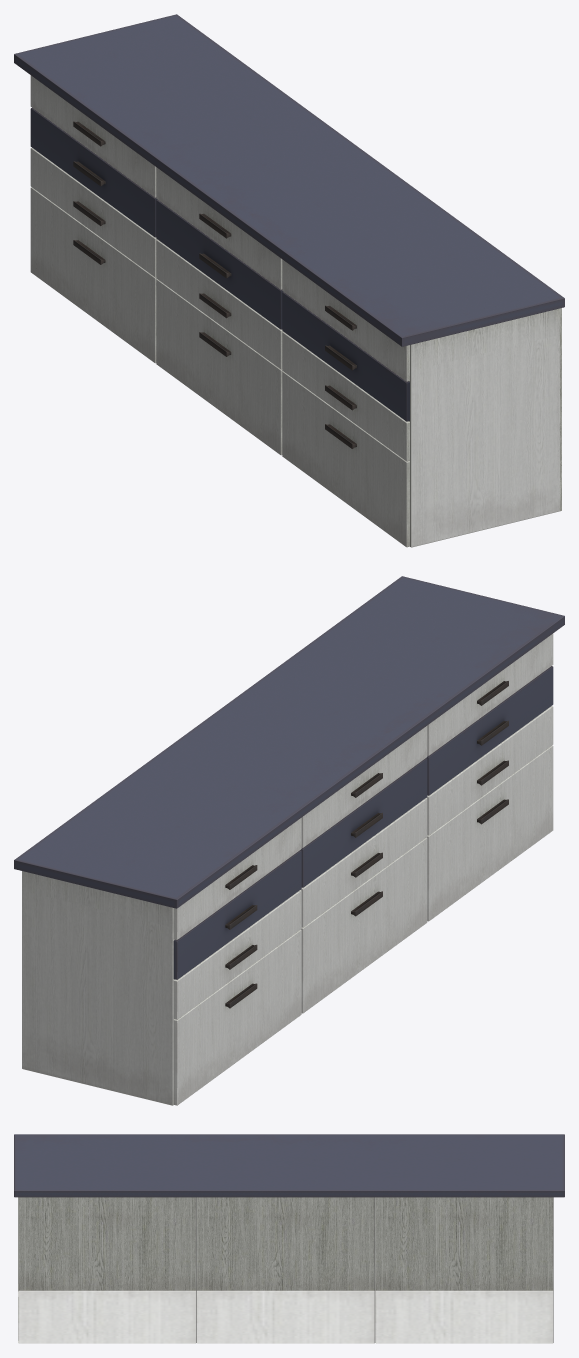
Rendered from CoffeDesk.fbx.
3 views of the same model, one above another, from view 1: azimuth 30°, elevation 25°; view 2: azimuth 150°, elevation 25°; view 3: azimuth 270°, elevation 25° (orthographic). The views are drawn at different scales.
Visible parts, largest first — view 1: CoffeDesk; view 2: CoffeDesk; view 3: CoffeDesk.
Part boxes in pixels (x1=…): CoffeDesk: x1=14, y1=14, x2=564, y2=547; CoffeDesk: x1=14, y1=576, x2=564, y2=1105; CoffeDesk: x1=14, y1=1134, x2=564, y2=1343.
Size of the model in its own units: 67.46 by 85 by 278.
